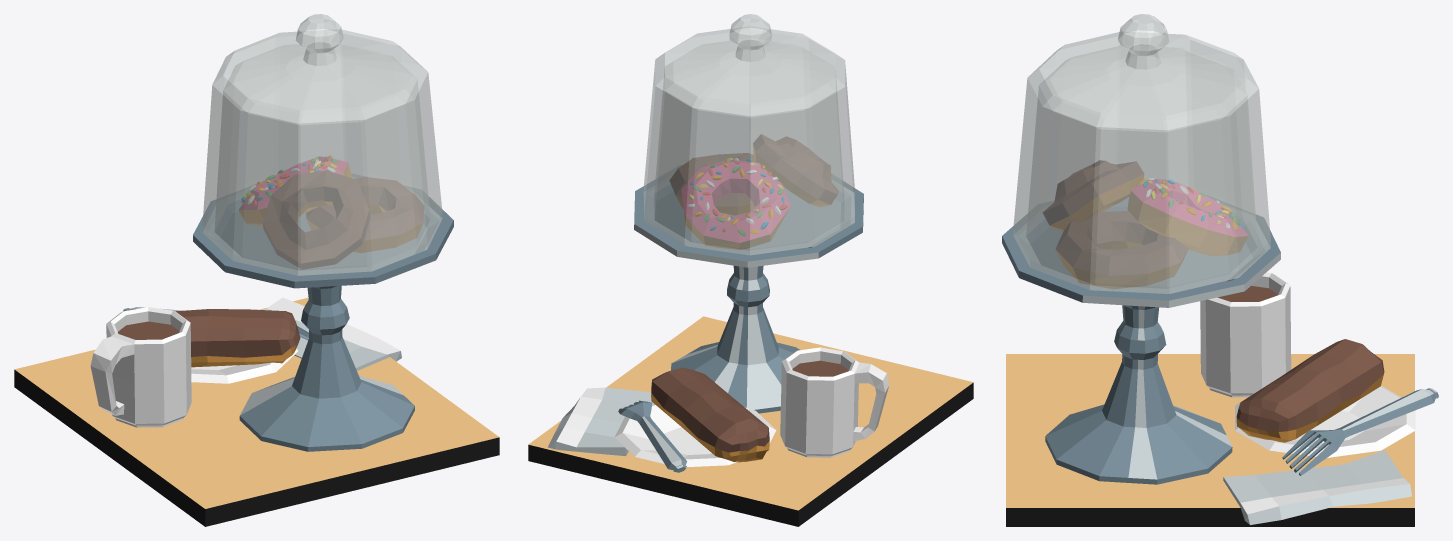
File: Fancy Donuts.glb
3 views of the same model, side by side, from view 1: azimuth 30°, elevation 25°; view 2: azimuth 150°, elevation 25°; view 3: azimuth 270°, elevation 25° (orthographic). The views are drawn at different scales.
Parts seen in each view (by area): view 1: group1307717322, group425272709, group946731157, group1895318755, group377362996, group419909856; view 2: group1307717322, group425272709, group946731157, group1895318755, group377362996, group419909856, group1418326412; view 3: group1307717322, group425272709, group946731157, group1895318755, group377362996, group419909856, group1418326412.
Part boxes in pixels (x1=…): group1307717322: x1=193, y1=14, x2=453, y2=451; group425272709: x1=14, y1=297, x2=499, y2=526; group946731157: x1=90, y1=307, x2=191, y2=427; group1895318755: x1=175, y1=309, x2=300, y2=367; group377362996: x1=262, y1=297, x2=401, y2=370; group419909856: x1=190, y1=309, x2=298, y2=383; group1307717322: x1=634, y1=14, x2=863, y2=413; group425272709: x1=528, y1=316, x2=973, y2=526; group946731157: x1=780, y1=347, x2=889, y2=457; group1895318755: x1=651, y1=367, x2=769, y2=462; group377362996: x1=548, y1=387, x2=654, y2=456; group419909856: x1=614, y1=405, x2=776, y2=466; group1418326412: x1=618, y1=400, x2=687, y2=472; group1307717322: x1=1002, y1=14, x2=1280, y2=484; group425272709: x1=1006, y1=354, x2=1414, y2=526; group946731157: x1=1200, y1=272, x2=1291, y2=397; group1895318755: x1=1236, y1=339, x2=1384, y2=442; group377362996: x1=1223, y1=450, x2=1411, y2=524; group419909856: x1=1235, y1=386, x2=1415, y2=457; group1418326412: x1=1282, y1=388, x2=1438, y2=475.
Size of the model in its own units: 1.5 by 1.87 by 1.66.
